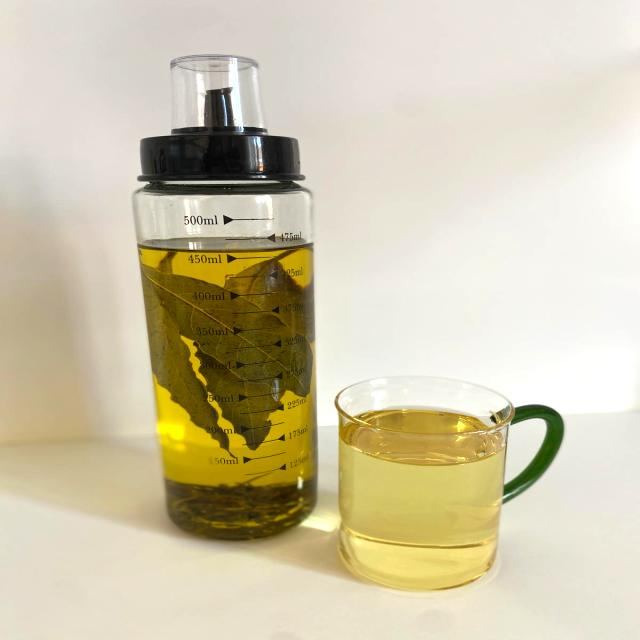olive oil: (131, 228, 340, 541), (319, 382, 549, 587)
